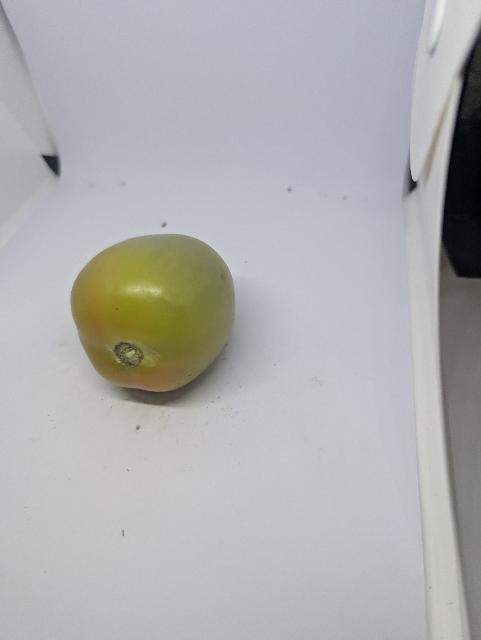breaker: (65, 232, 240, 400)
